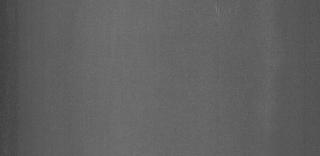silk spot: (208, 4, 248, 30)
